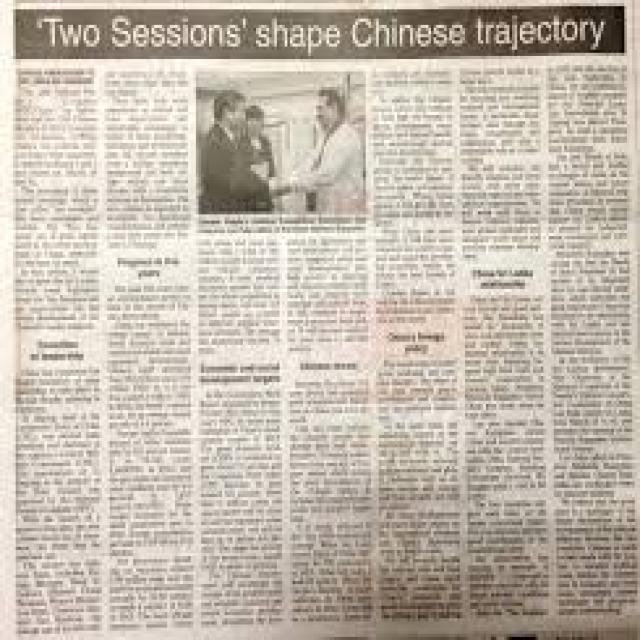paper: (2, 11, 640, 640)
